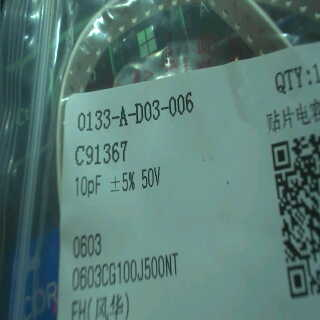10pF: (72, 170, 107, 197)
